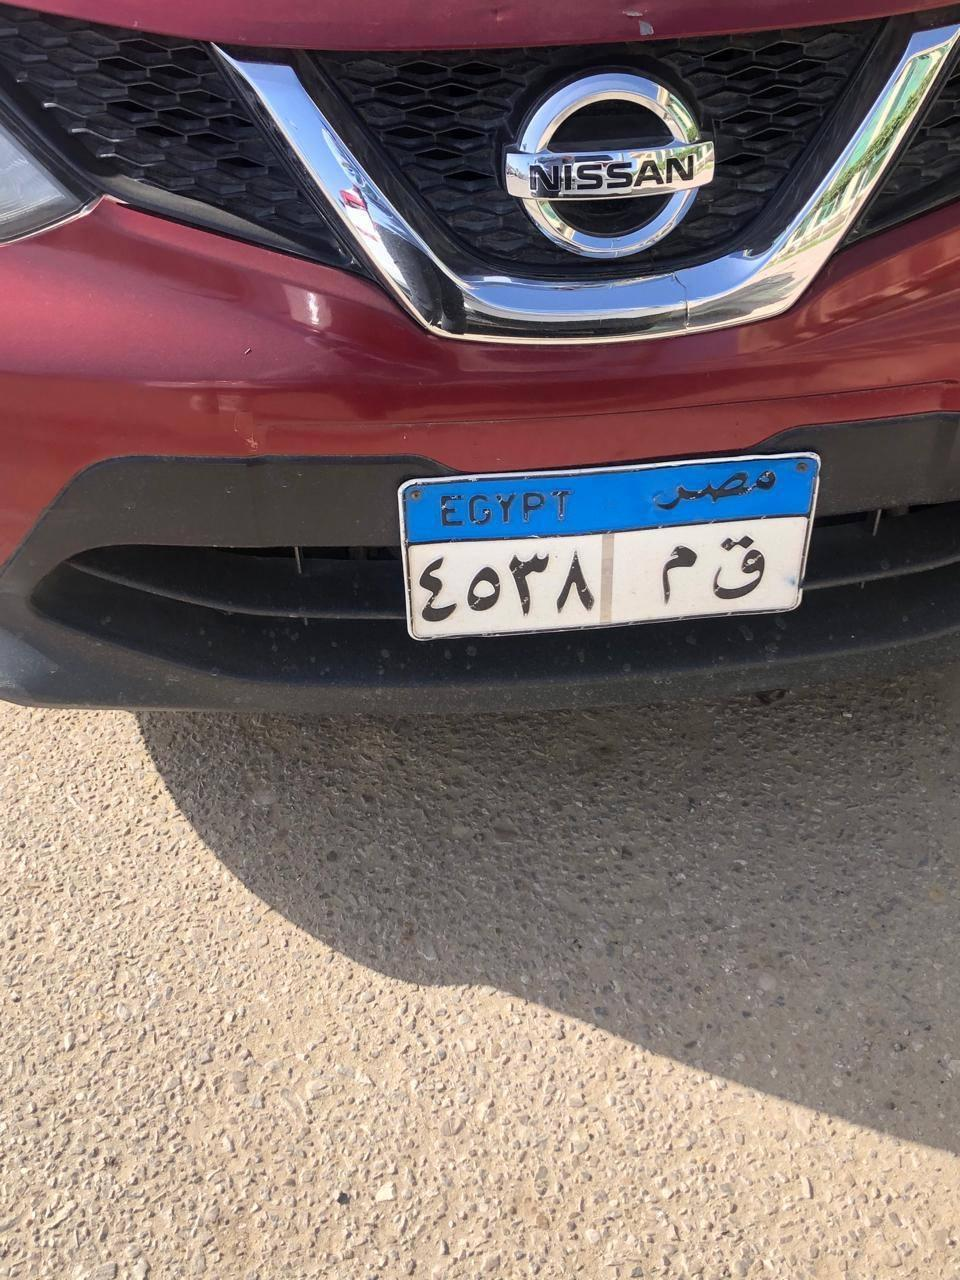3: (502, 548, 552, 623)
4: (412, 556, 468, 622)
5: (460, 551, 502, 617)
8: (552, 536, 594, 611)
License Plate: (381, 454, 826, 645)
Meem: (654, 536, 708, 630)
Q: (714, 528, 770, 606)
